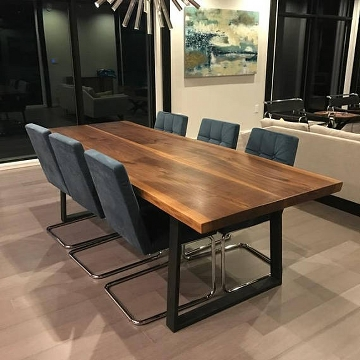kursi: (82, 148, 215, 324), (48, 132, 165, 278), (25, 123, 121, 250)
meja: (46, 121, 341, 333)
